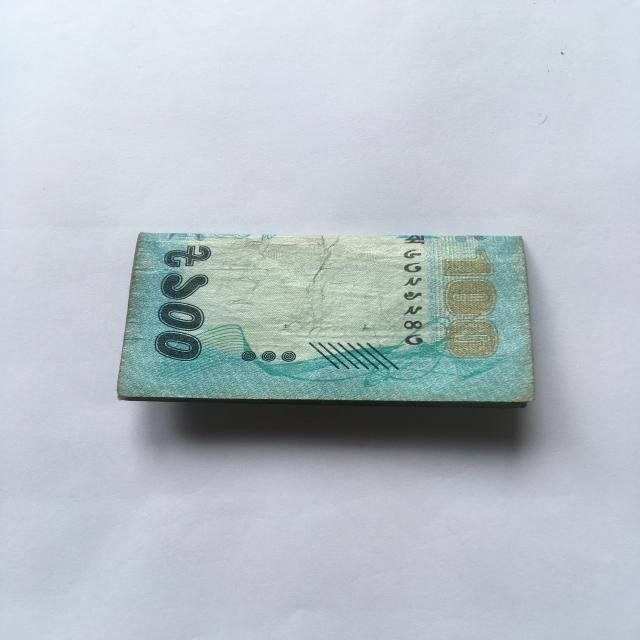Taka: (116, 219, 554, 416)
